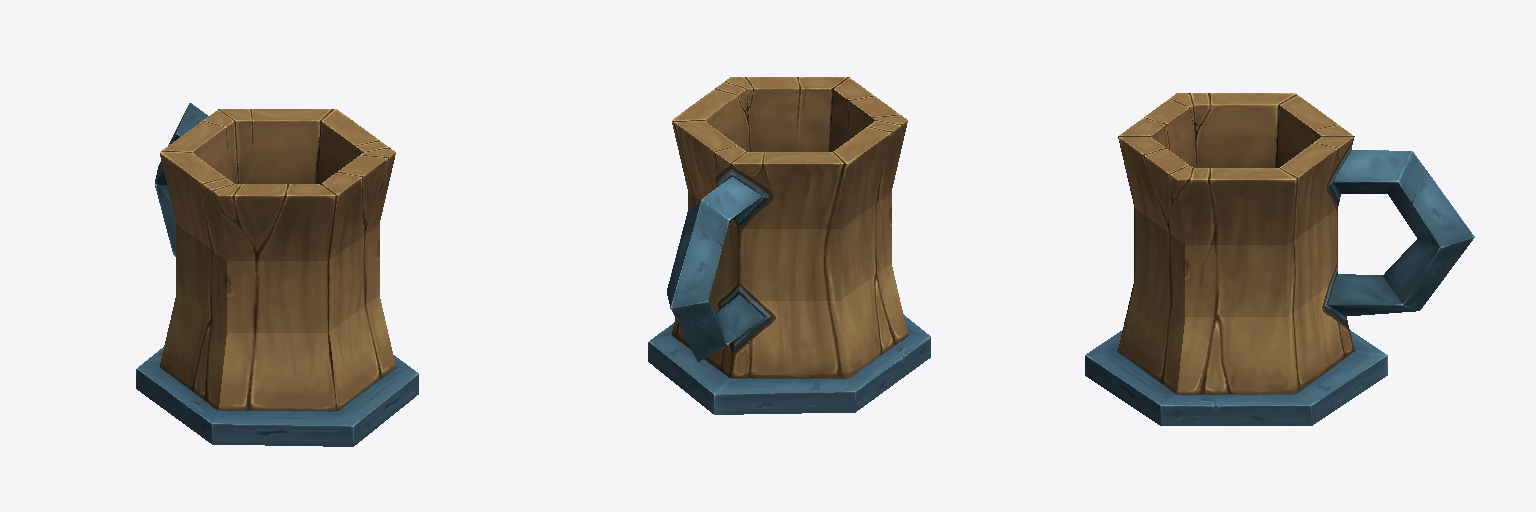
3 renders of one model, left to right at view 1: azimuth 30°, elevation 25°; view 2: azimuth 150°, elevation 25°; view 3: azimuth 270°, elevation 25°, orthographic.
Parts seen in each view (by area): view 1: Cylinder; view 2: Cylinder; view 3: Cylinder.
Part boxes in pixels (bbox=[...]): Cylinder: bbox=[136, 103, 418, 446]; Cylinder: bbox=[648, 77, 930, 414]; Cylinder: bbox=[1085, 93, 1474, 425].
Size of the model in its own units: 2.02 by 2.23 by 3.3.
1 materials, 1 textured.